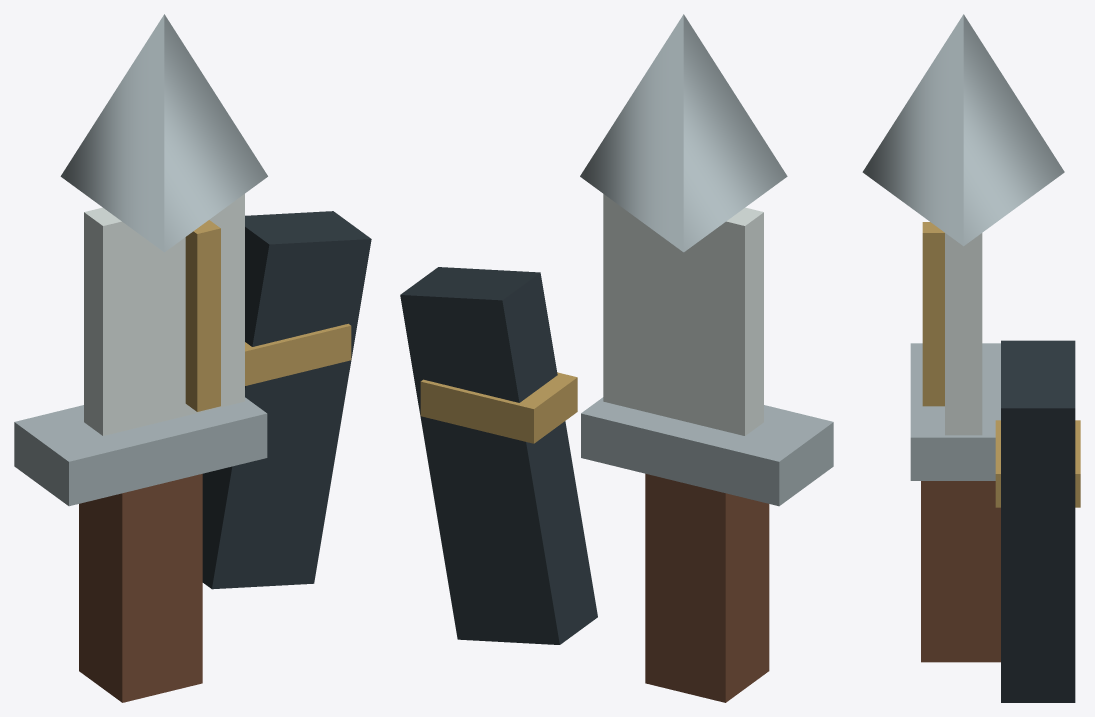
Rendered from fixed-knife.glb.
3 views of the same model, side by side, from view 1: azimuth 30°, elevation 25°; view 2: azimuth 150°, elevation 25°; view 3: azimuth 270°, elevation 25° (orthographic). The views are drawn at different scales.
Visible parts, largest first — view 1: piece_whole; view 2: piece_whole; view 3: piece_whole.
Boxes of the visible parts, x1,y1,x2,y2 form: piece_whole: (14,14,371,702); piece_whole: (400,14,833,702); piece_whole: (862,14,1080,702).
Size of the model in its own units: 0.3695 by 0.665 by 0.2053.
